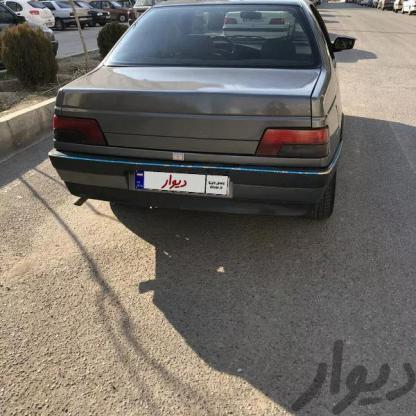Car: (54, 0, 346, 244), (4, 0, 70, 35), (42, 0, 100, 24)
